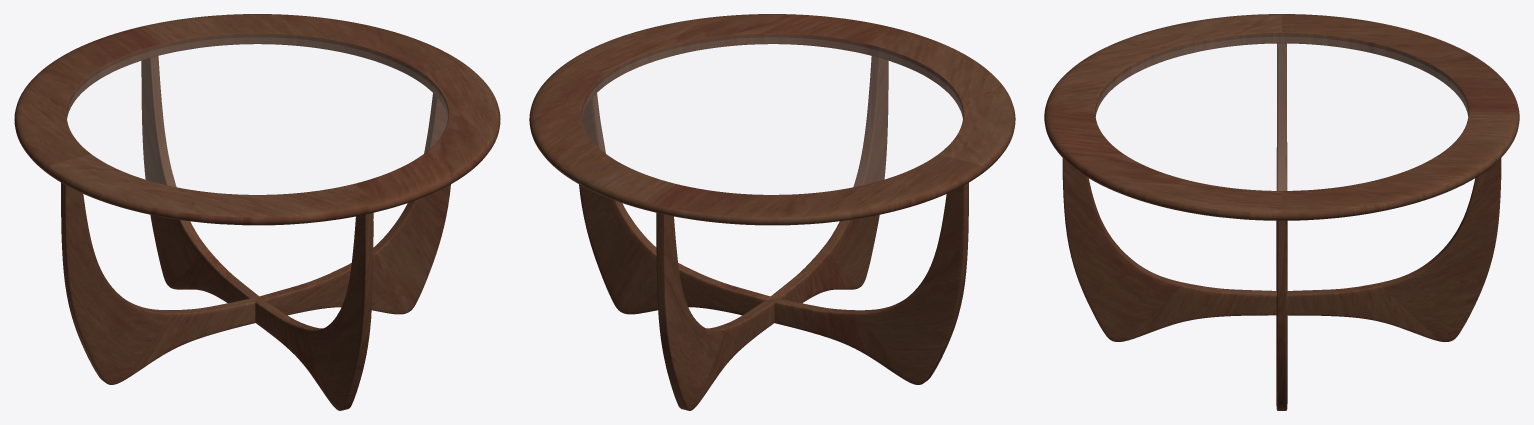
File: coffee_table_astro_domingos_studios.glb
3 renders of one model, left to right at view 1: azimuth 30°, elevation 25°; view 2: azimuth 150°, elevation 25°; view 3: azimuth 270°, elevation 25°, orthographic. The views are drawn at different scales.
Parts seen in each view (by area): view 1: Object_4, Object_6; view 2: Object_4, Object_6; view 3: Object_4, Object_6.
Boxes of the visible parts, x1,y1,x2,y2 form: Object_4: [14, 14, 500, 410]; Object_6: [67, 38, 447, 194]; Object_4: [529, 14, 1015, 410]; Object_6: [582, 38, 962, 194]; Object_4: [1044, 14, 1519, 410]; Object_6: [1096, 37, 1467, 190].
Bounding box in the file's own units: 1.01 × 0.5377 × 1.01.
2 materials, 1 textured.
